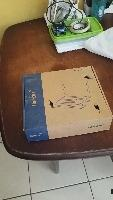damaged package: (45, 96, 57, 110), (90, 101, 100, 115), (78, 71, 92, 80)
undamaged: (20, 63, 111, 144)
